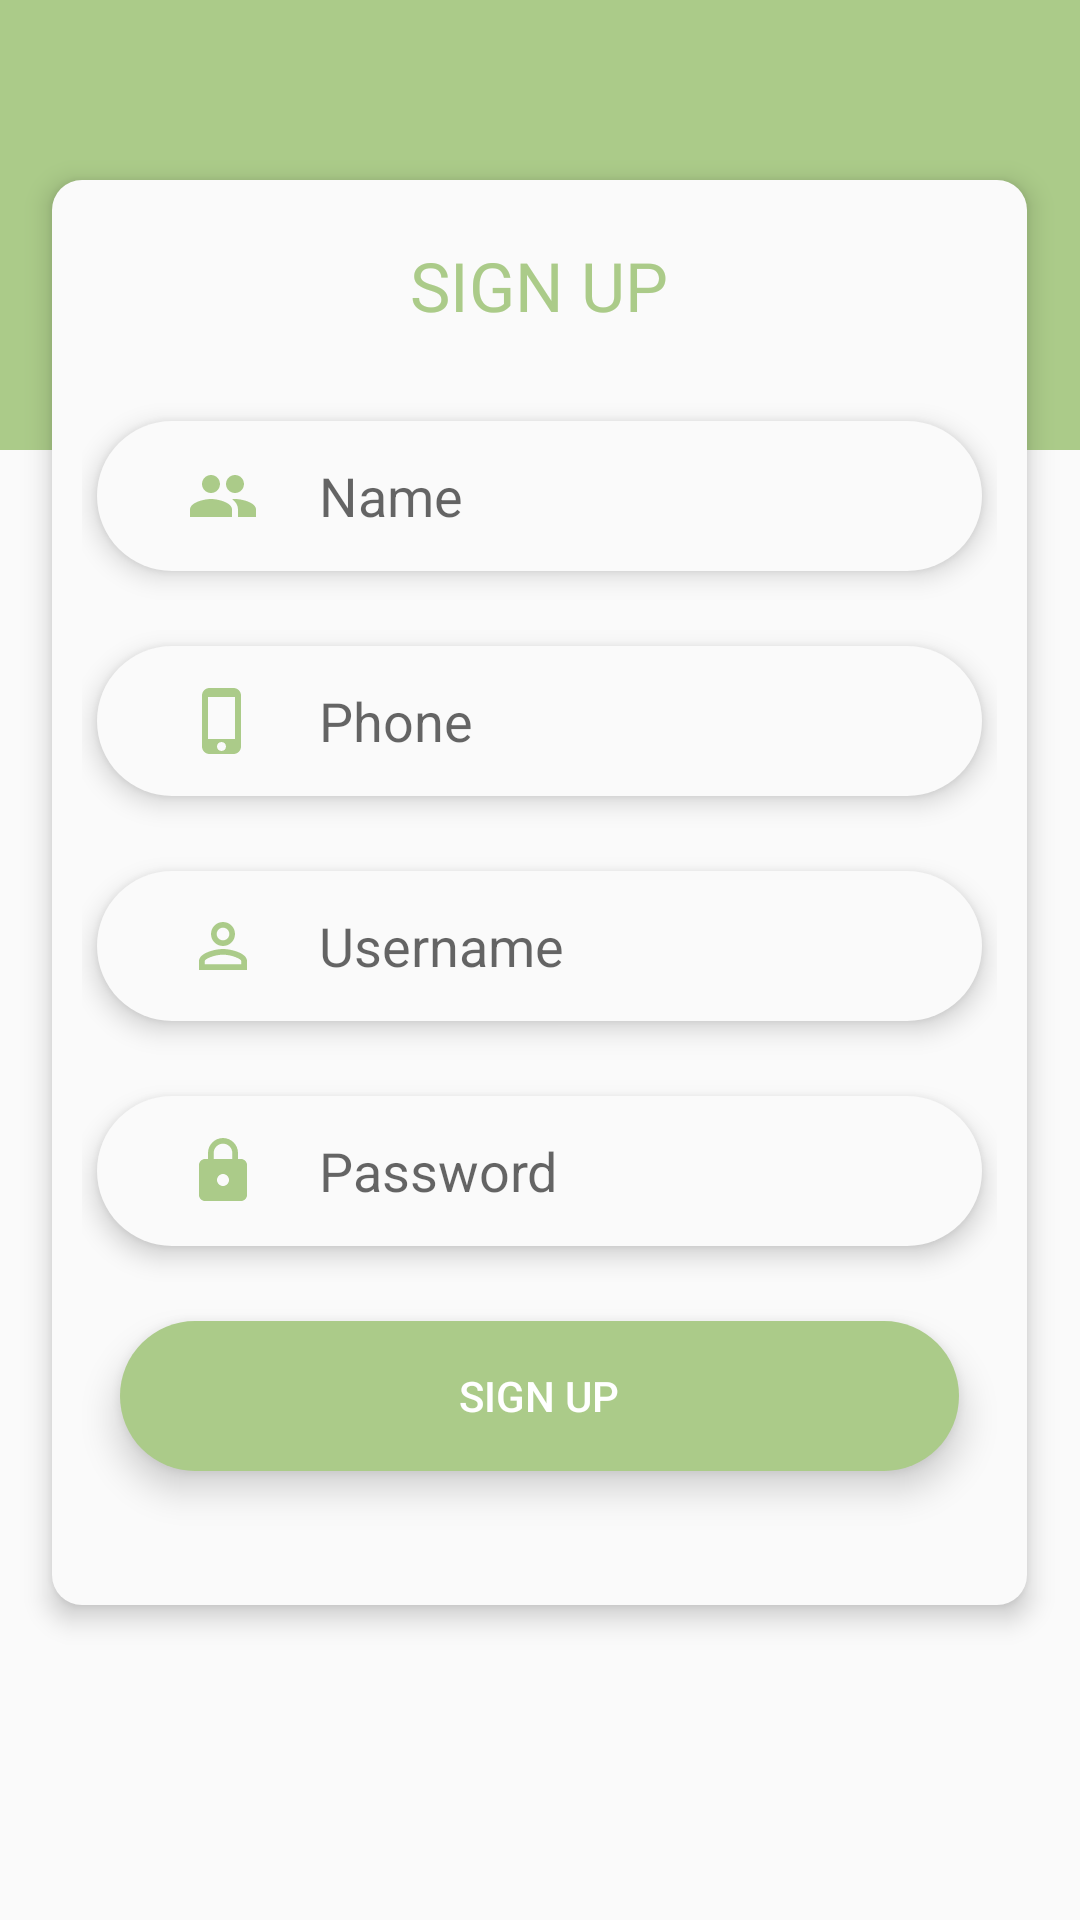

Icons on this 1080px x 1920px Android screen, each with the point to tap as point (x, y):
people: point (223, 496)
person: point (223, 946)
